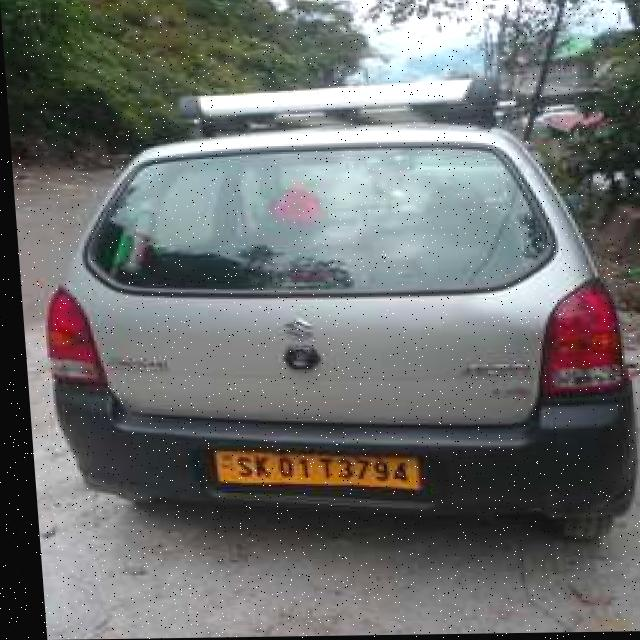plate: (205, 447, 419, 500)
